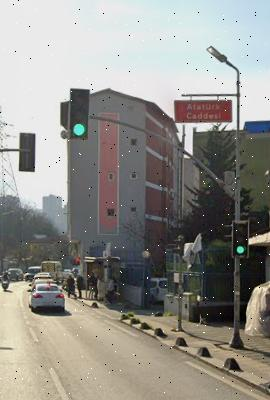greenlight: (69, 88, 89, 137), (234, 223, 247, 256)
